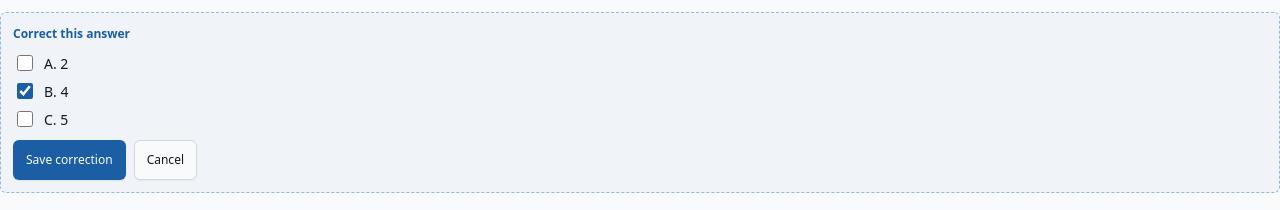
Test: CorrectAnswerEditor › won't save a choice question with no correct option
Click the checkbox labelled "B. 4" at (25, 91), box [17,83,33,99]
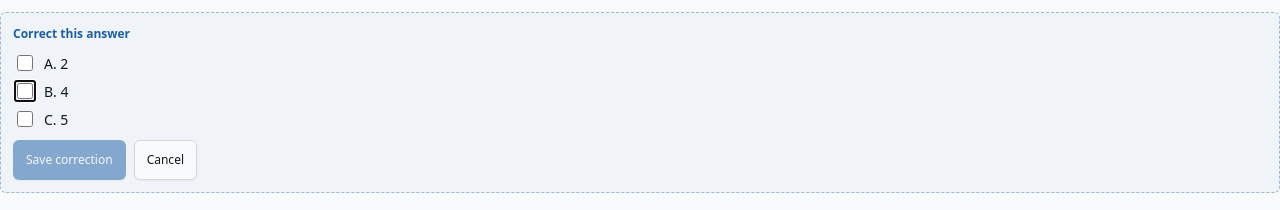
Expected: the button "Save correction" is disabled, [13,140,126,180]
